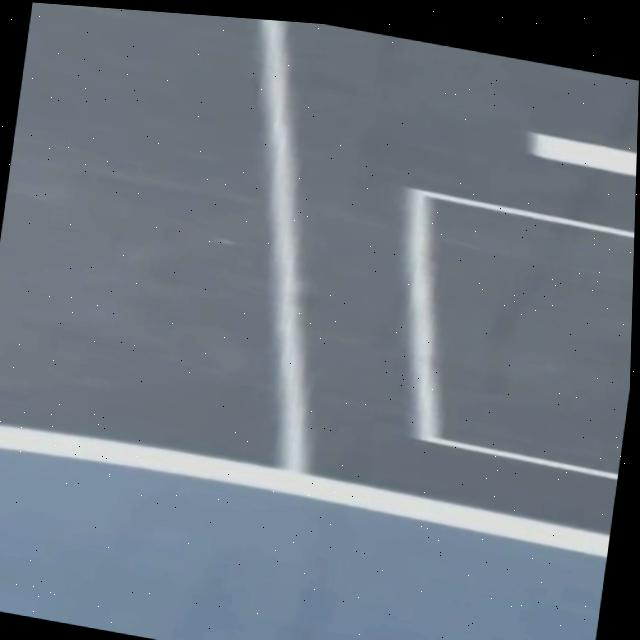center: (529, 133, 637, 176)
left: (0, 425, 610, 556)
